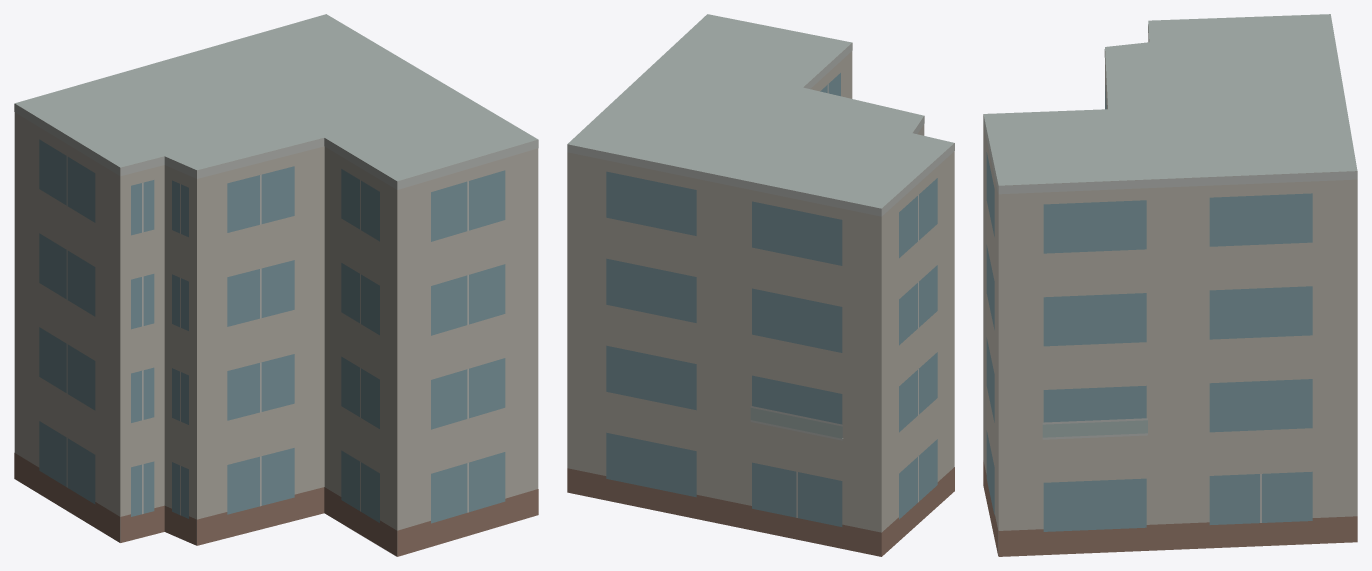
The model's file is survey-upis-32613935.glb.
3 renders of one model, left to right at view 1: azimuth 30°, elevation 25°; view 2: azimuth 150°, elevation 25°; view 3: azimuth 270°, elevation 25°, orthographic. The views are drawn at different scales.
Parts seen in each view (by area): view 1: survey-upis-32613935.tmp; view 2: survey-upis-32613935.tmp; view 3: survey-upis-32613935.tmp.
Boxes of the visible parts, <box> form: survey-upis-32613935.tmp: <box>14,14,538,556</box>; survey-upis-32613935.tmp: <box>567,14,954,556</box>; survey-upis-32613935.tmp: <box>983,14,1357,556</box>.
Size of the model in its own units: 10.48 by 10.55 by 9.65.
